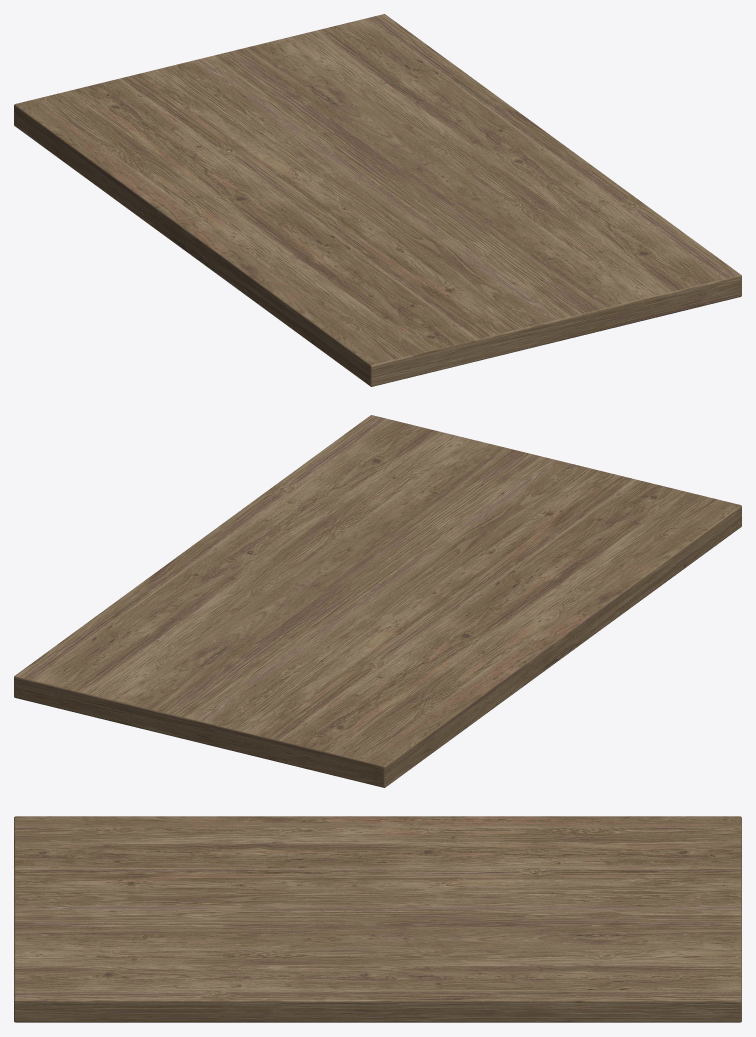
Rendered from Var1A.gltf.
The picture shows the model from 3 angles, top to bottom: view 1: azimuth 30°, elevation 25°; view 2: azimuth 150°, elevation 25°; view 3: azimuth 270°, elevation 25°; orthographic projection.
Parts seen in each view (by area): view 1: Var1A; view 2: Var1A; view 3: Var1A.
Boxes of the visible parts, x1,y1,x2,y2 form: Var1A: [14, 14, 741, 386]; Var1A: [14, 415, 741, 787]; Var1A: [14, 816, 741, 1022].
Size of the model in its own units: 3 by 0.17 by 5.
1 material, 1 textured.
